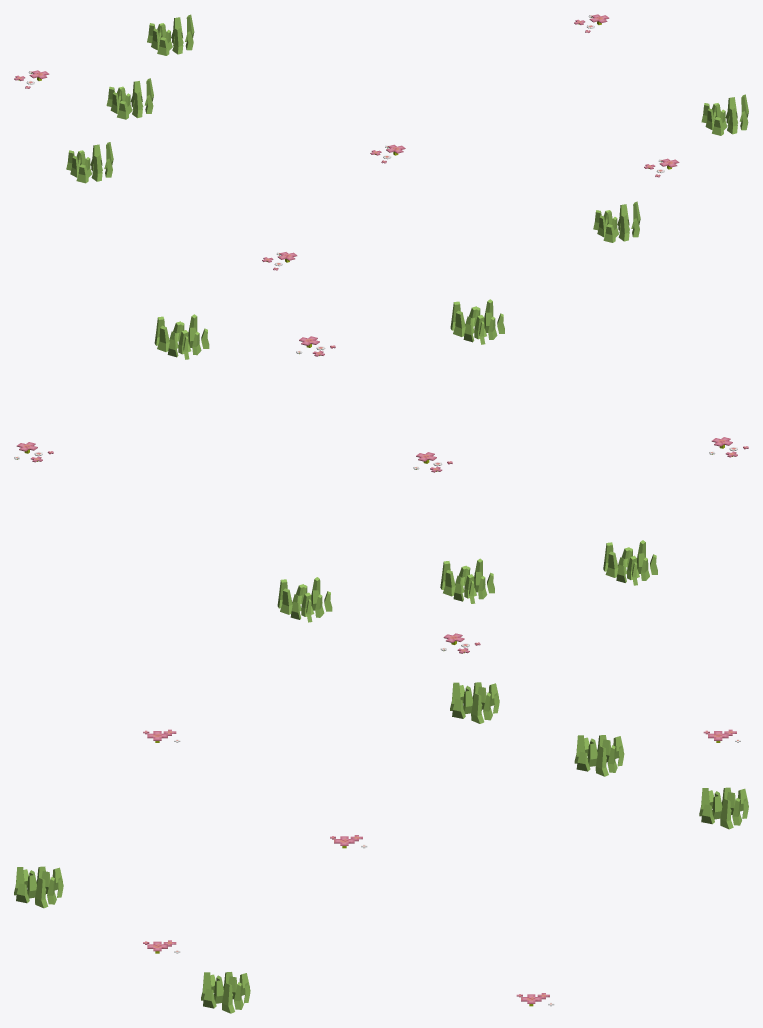
Rendered from flower_grass 25.fbx.
3 renders of one model, top to bottom at view 1: azimuth 30°, elevation 25°; view 2: azimuth 150°, elevation 25°; view 3: azimuth 270°, elevation 25°, orthographic. The views are drawn at different scales.
Visible parts, largest first — view 1: Flower_B_4; view 2: Flower_B_4; view 3: Flower_B_4.
Boxes of the visible parts, x1,y1,x2,y2 form: Flower_B_4: [14, 14, 748, 270]; Flower_B_4: [14, 299, 748, 653]; Flower_B_4: [14, 682, 748, 1013].
Bounding box in the file's own units: 7146 × 294 × 7079.
2 materials, 2 textured.
